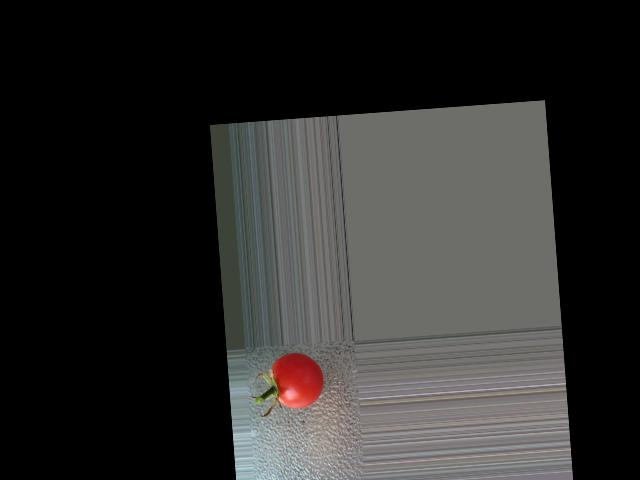tomato: (270, 351, 326, 411)
